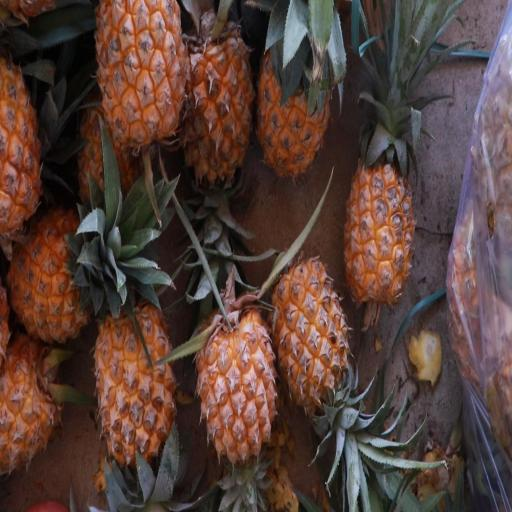Pineapple - v8 v1: (91, 292, 182, 502), (3, 203, 130, 350), (92, 0, 192, 177), (267, 249, 354, 442), (192, 289, 280, 473), (179, 0, 257, 197), (341, 126, 419, 315), (254, 9, 334, 185), (0, 48, 53, 254), (0, 329, 71, 480)
